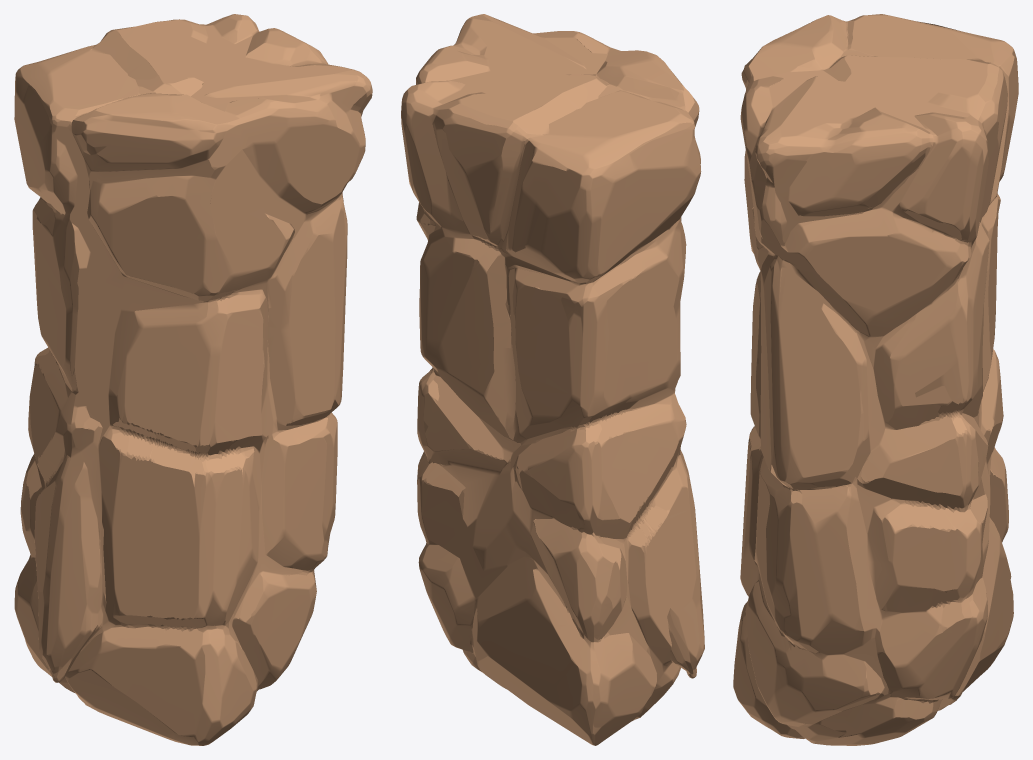
The picture shows the model from 3 angles, left to right: view 1: azimuth 30°, elevation 25°; view 2: azimuth 150°, elevation 25°; view 3: azimuth 270°, elevation 25°; orthographic projection. The views are drawn at different scales.
Visible parts, largest first — view 1: Mesh_3_LOD0; view 2: Mesh_3_LOD0; view 3: Mesh_3_LOD0.
Part boxes in pixels (left/top/right/bottom): Mesh_3_LOD0: left=14, top=14, right=372, bottom=745; Mesh_3_LOD0: left=401, top=14, right=704, bottom=745; Mesh_3_LOD0: left=733, top=14, right=1018, bottom=745.
Size of what is drawn, in the model's own units: 1832 by 3917 by 1510.
